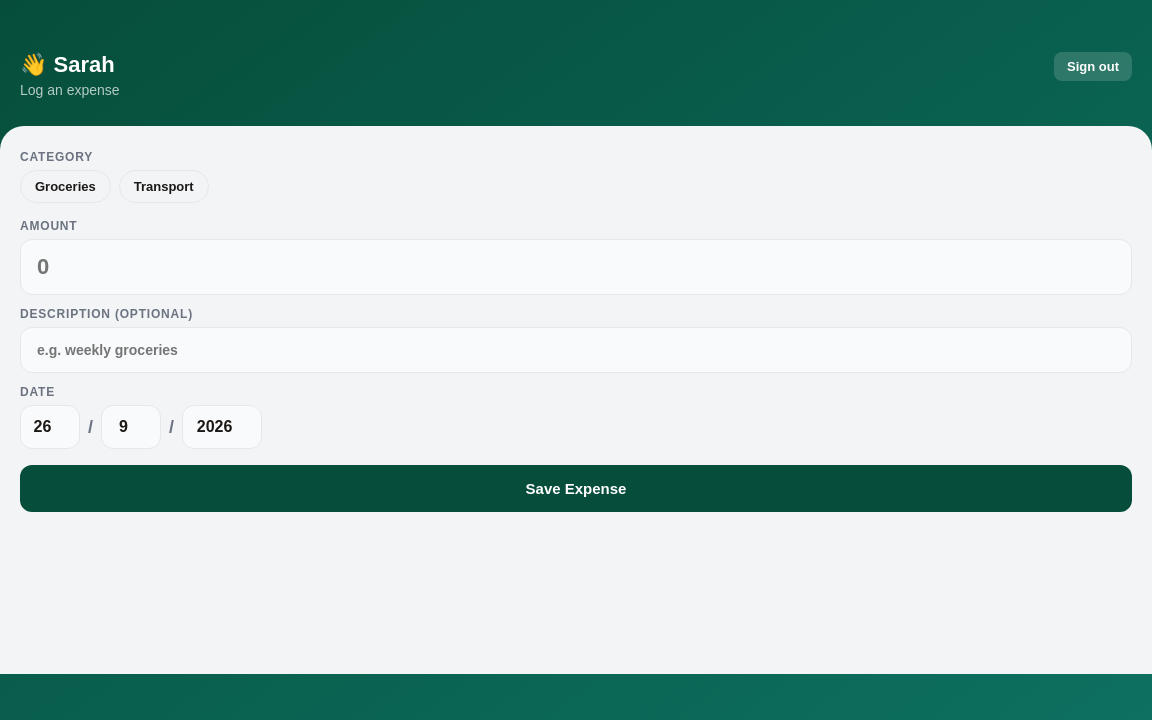
Test: GuestTransactionForm › shows a re-authenticate prompt when the guest session is rejected
Type "150" into the number field with test id "guest-amount-input" at [576, 267], box [20, 239, 1132, 295]
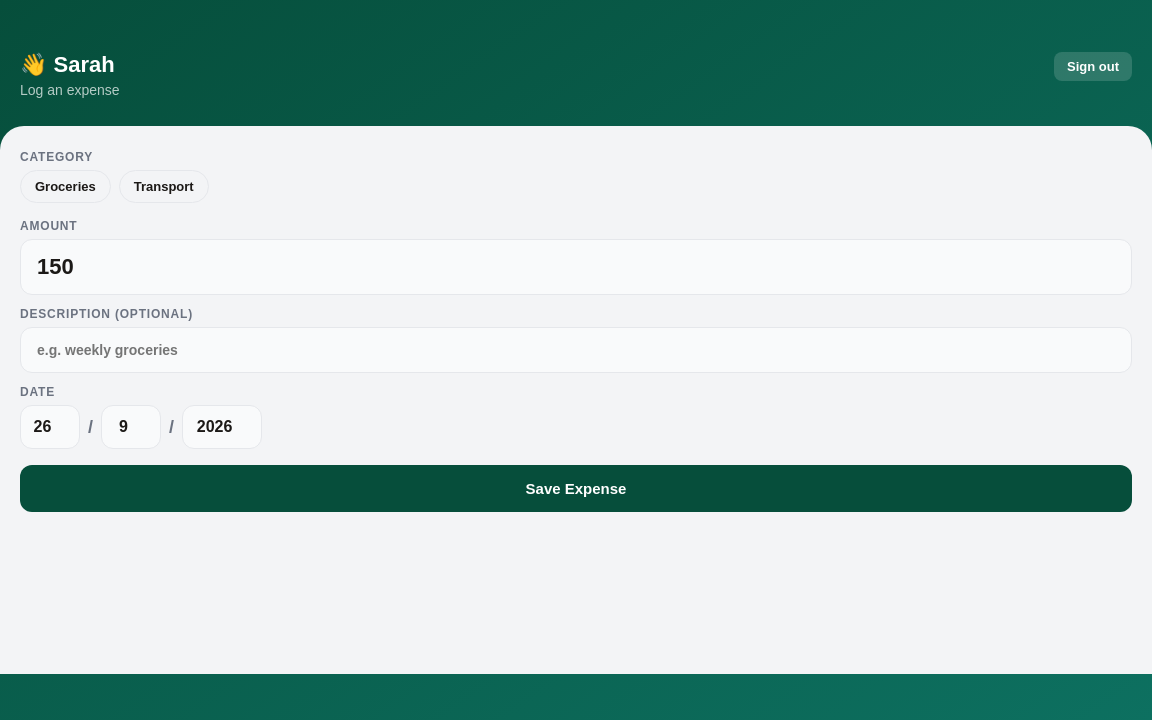
Click the button with test id "guest-save-btn" at [576, 488], box [20, 465, 1132, 512]
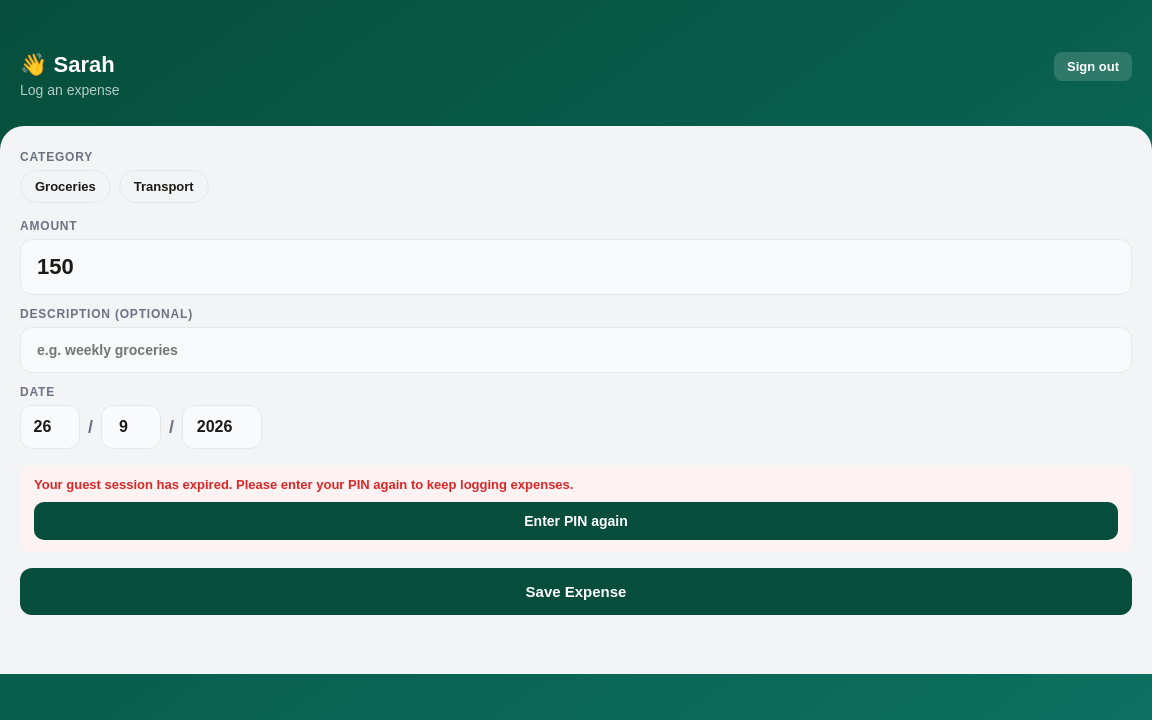
Result: the text with test id "guest-session-expired" shows "PIN again" at [34, 477, 573, 492]
